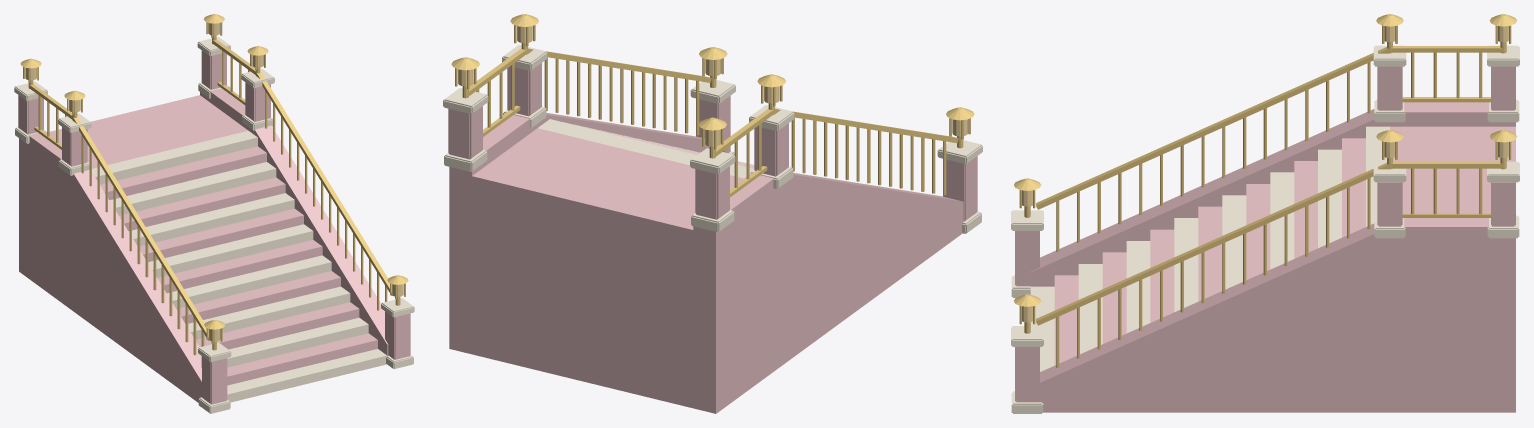
Rendered from HOB_Stairs_3m.fbx.
3 renders of one model, left to right at view 1: azimuth 30°, elevation 25°; view 2: azimuth 150°, elevation 25°; view 3: azimuth 270°, elevation 25°, orthographic. The views are drawn at different scales.
Parts seen in each view (by area): view 1: HOB_Stairs_3m; view 2: HOB_Stairs_3m; view 3: HOB_Stairs_3m.
Part boxes in pixels (left/top/right/bottom): HOB_Stairs_3m: left=14, top=14, right=414, bottom=413; HOB_Stairs_3m: left=443, top=14, right=982, bottom=413; HOB_Stairs_3m: left=1011, top=14, right=1519, bottom=413.
Size of the model in its own units: 487 by 485 by 807.
